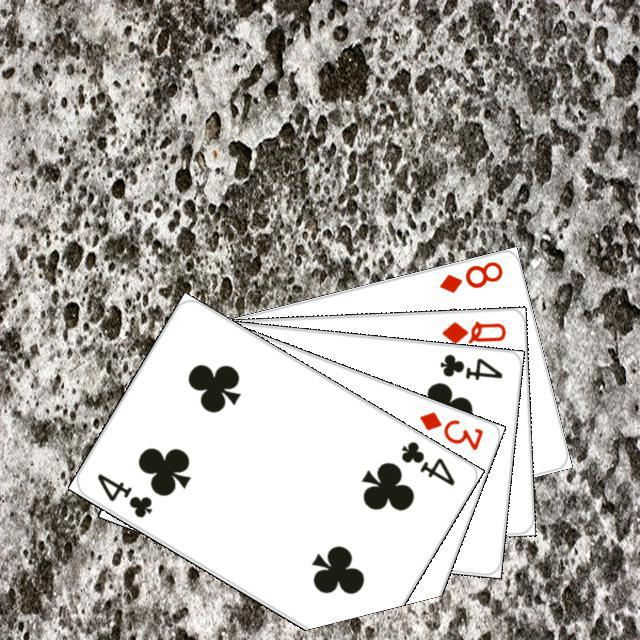3d: (414, 406, 485, 453)
4c: (395, 436, 457, 488), (92, 468, 154, 520), (434, 349, 504, 382)
8d: (434, 256, 505, 295)
Qd: (437, 316, 507, 346)
